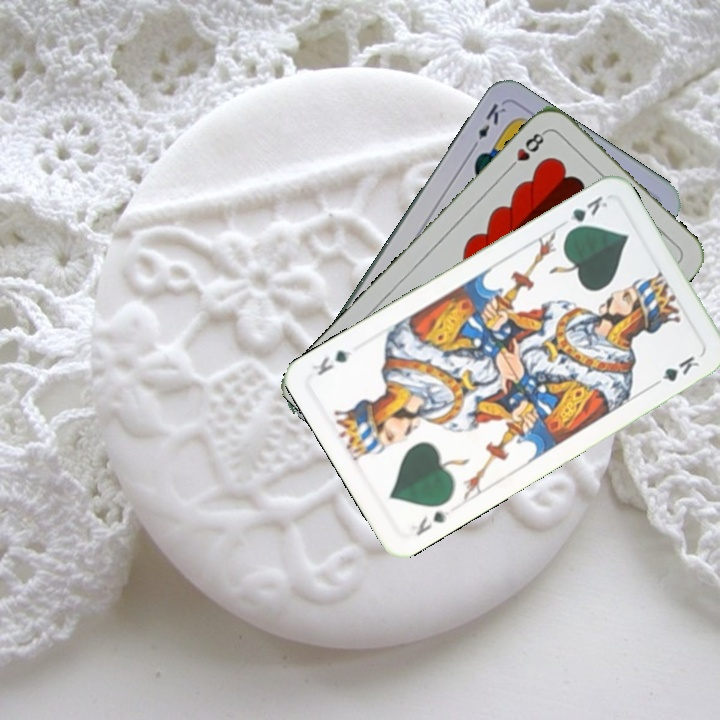EK: (467, 99, 509, 153)
GK: (562, 191, 610, 236), (406, 506, 452, 539)
H8: (503, 127, 549, 174)
